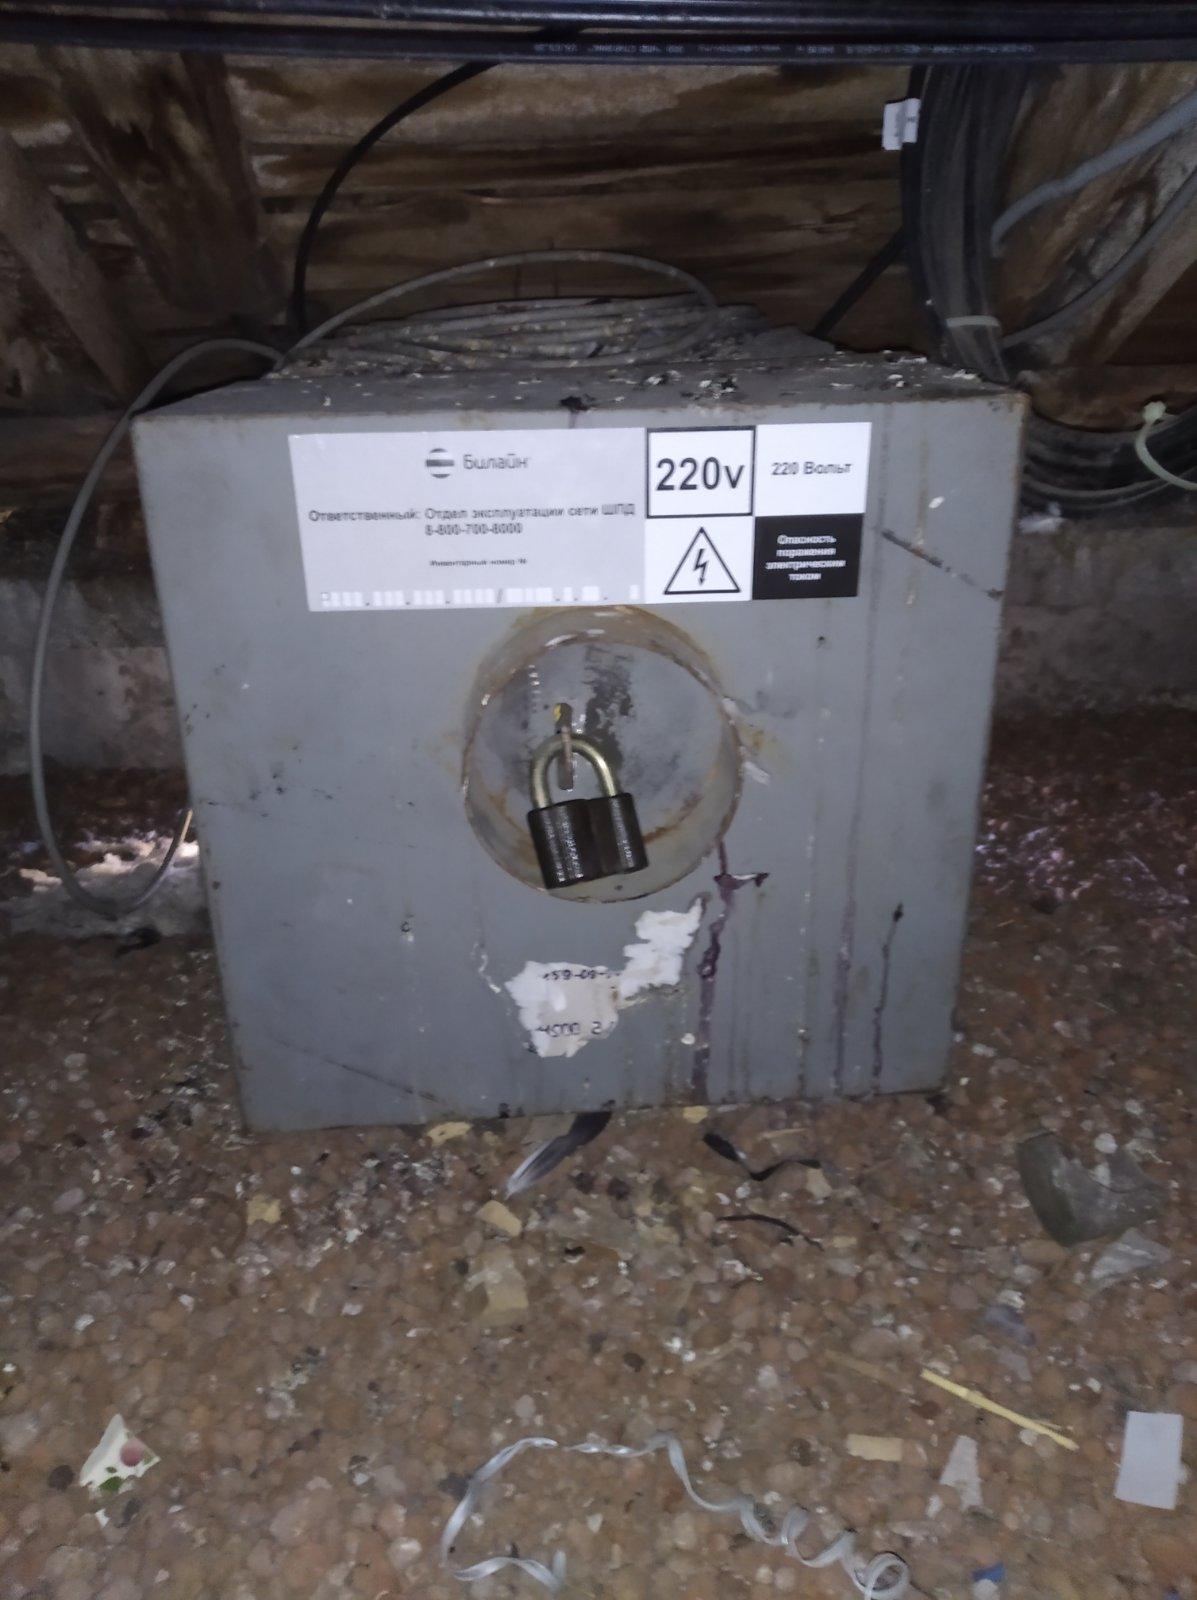shta-9: (109, 292, 1055, 1153)
